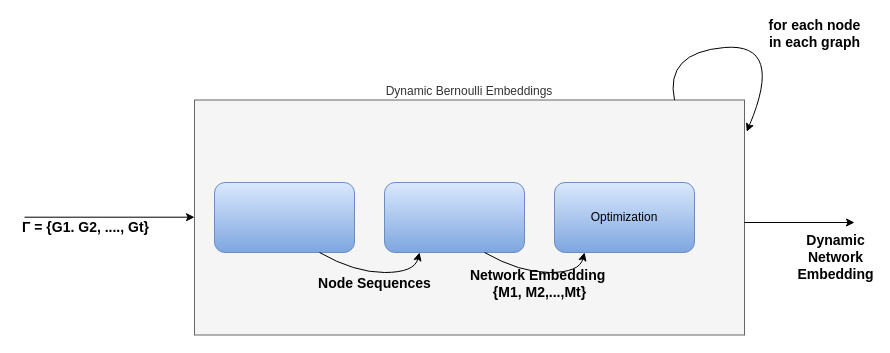
The diagram is 890 pixels wide and 353 high, and some of its shapes have lost their labels. Each missing label, with the centre of its shape:
"Calculations & Training" belongs at [454,217].
"Random Walks" belongs at [284,217].
